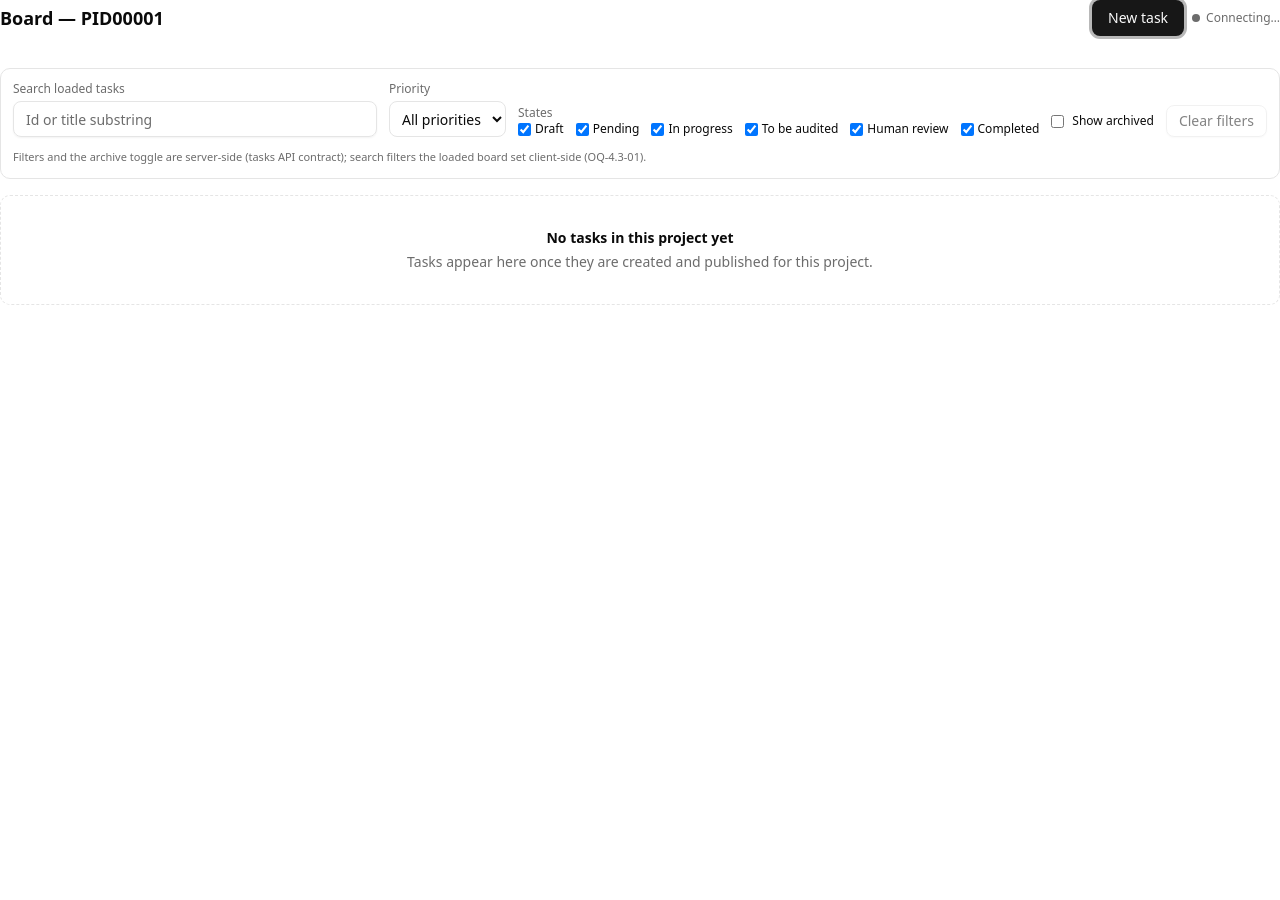
Test: create task by keyboard (MT-4.11-02) › completes keyboard-only: New task → modal focus → title → submit POSTs the draft
Step 1. Press Enter in the button with test id "board-new-task", box top-left (1092, 0), bottom-right (1184, 36)
Step 2. Click the button with test id "board-new-task" → click(1138, 18), box top-left (1092, 0), bottom-right (1184, 36)
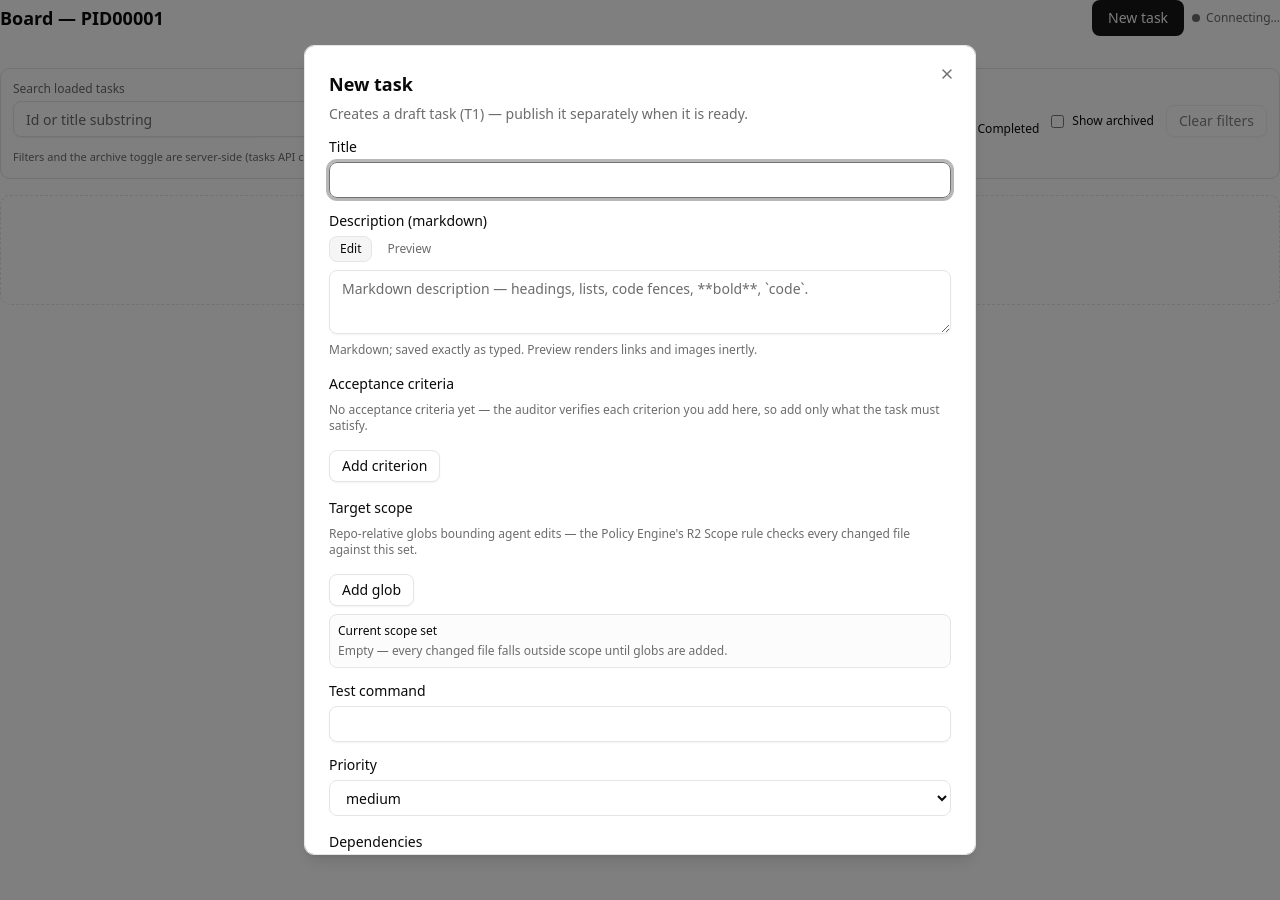
Step 3. Type "Keyboard-created task" into the field labelled "Title" → (640, 180), box top-left (329, 162), bottom-right (951, 198)
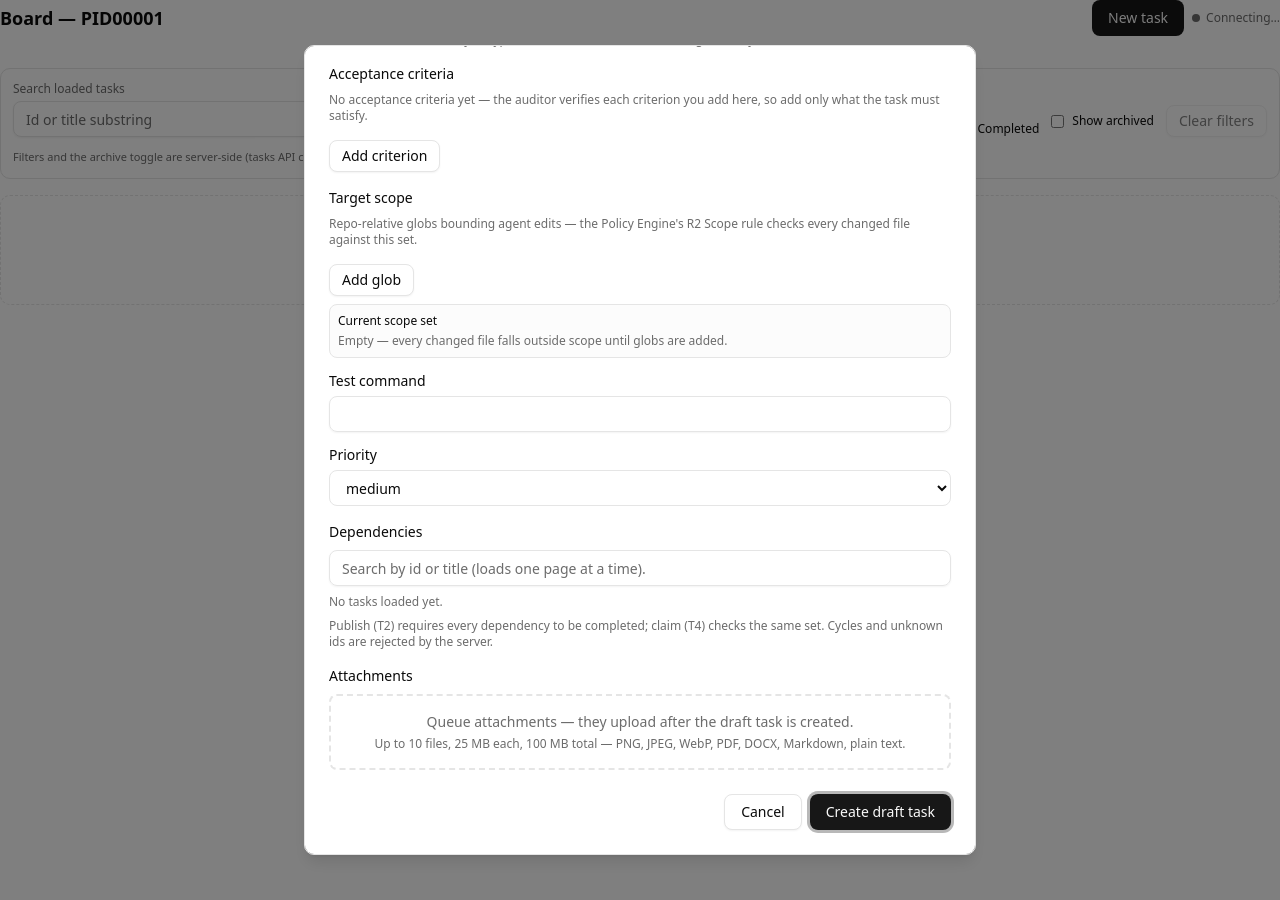
Step 4. Press Enter in the button with test id "task-form-submit", box top-left (810, 794), bottom-right (951, 830)
Step 5. Click the button with test id "task-form-submit" → click(880, 812), box top-left (810, 794), bottom-right (951, 830)
(page scrolled)
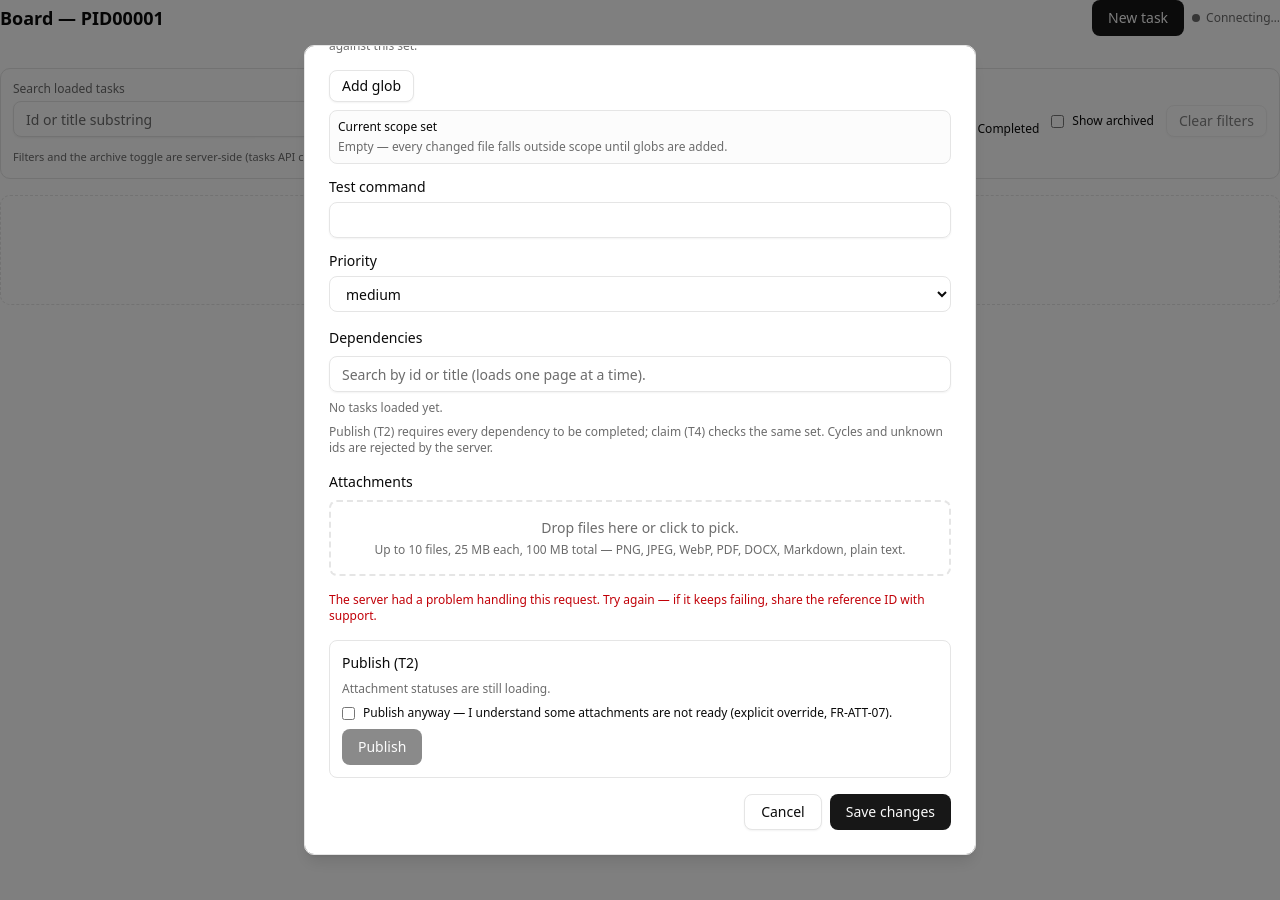
expect the button with test id "task-form-submit" reads "Save changes": met, box top-left (830, 794), bottom-right (951, 830)
